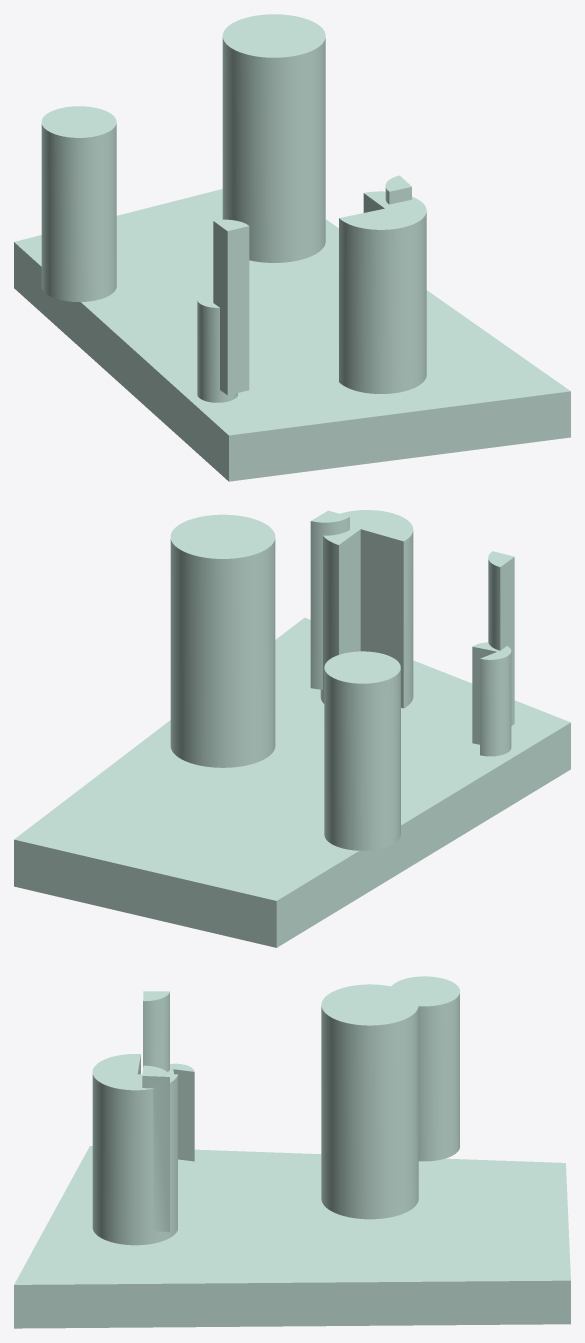
3 renders of one model, top to bottom at view 1: azimuth 30°, elevation 25°; view 2: azimuth 150°, elevation 25°; view 3: azimuth 270°, elevation 25°, orthographic. The views are drawn at different scales.
Parts seen in each view (by area): view 1: Renderer Node; view 2: Renderer Node; view 3: Renderer Node.
Part boxes in pixels (x1=…): Renderer Node: x1=14, y1=14, x2=570, y2=481; Renderer Node: x1=14, y1=510, x2=570, y2=947; Renderer Node: x1=14, y1=976, x2=570, y2=1328.
Bounding box in the file's own units: 0.9782 × 0.8828 × 1.63.
